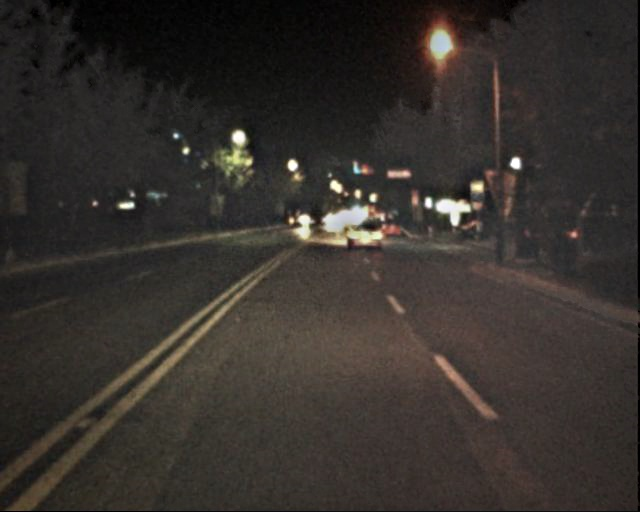person: (487, 222, 510, 277)
